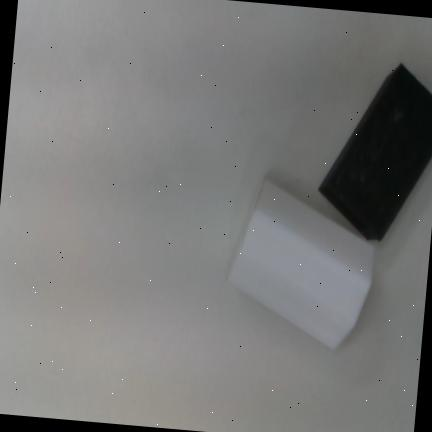Paralelepipedo: (317, 63, 432, 241)
Prisma_hexagonal: (226, 179, 374, 349)
